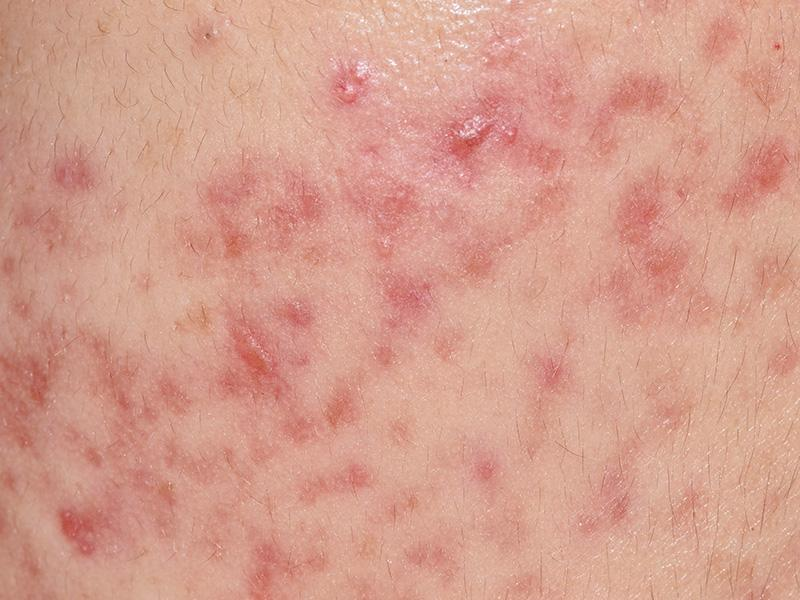acne_scars: (47, 477, 127, 584), (46, 107, 97, 231)
keloid: (422, 100, 540, 175), (209, 300, 283, 408)
